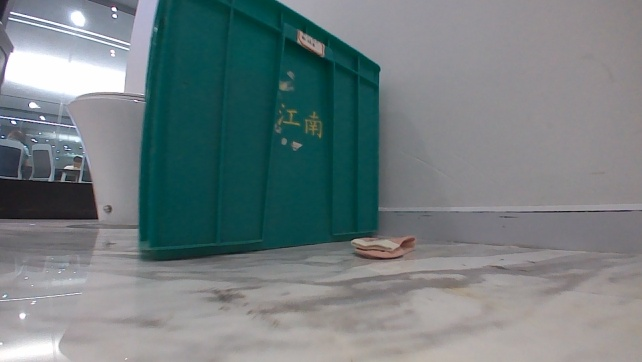socks: (348, 231, 418, 262)
toilet: (62, 86, 144, 230)
